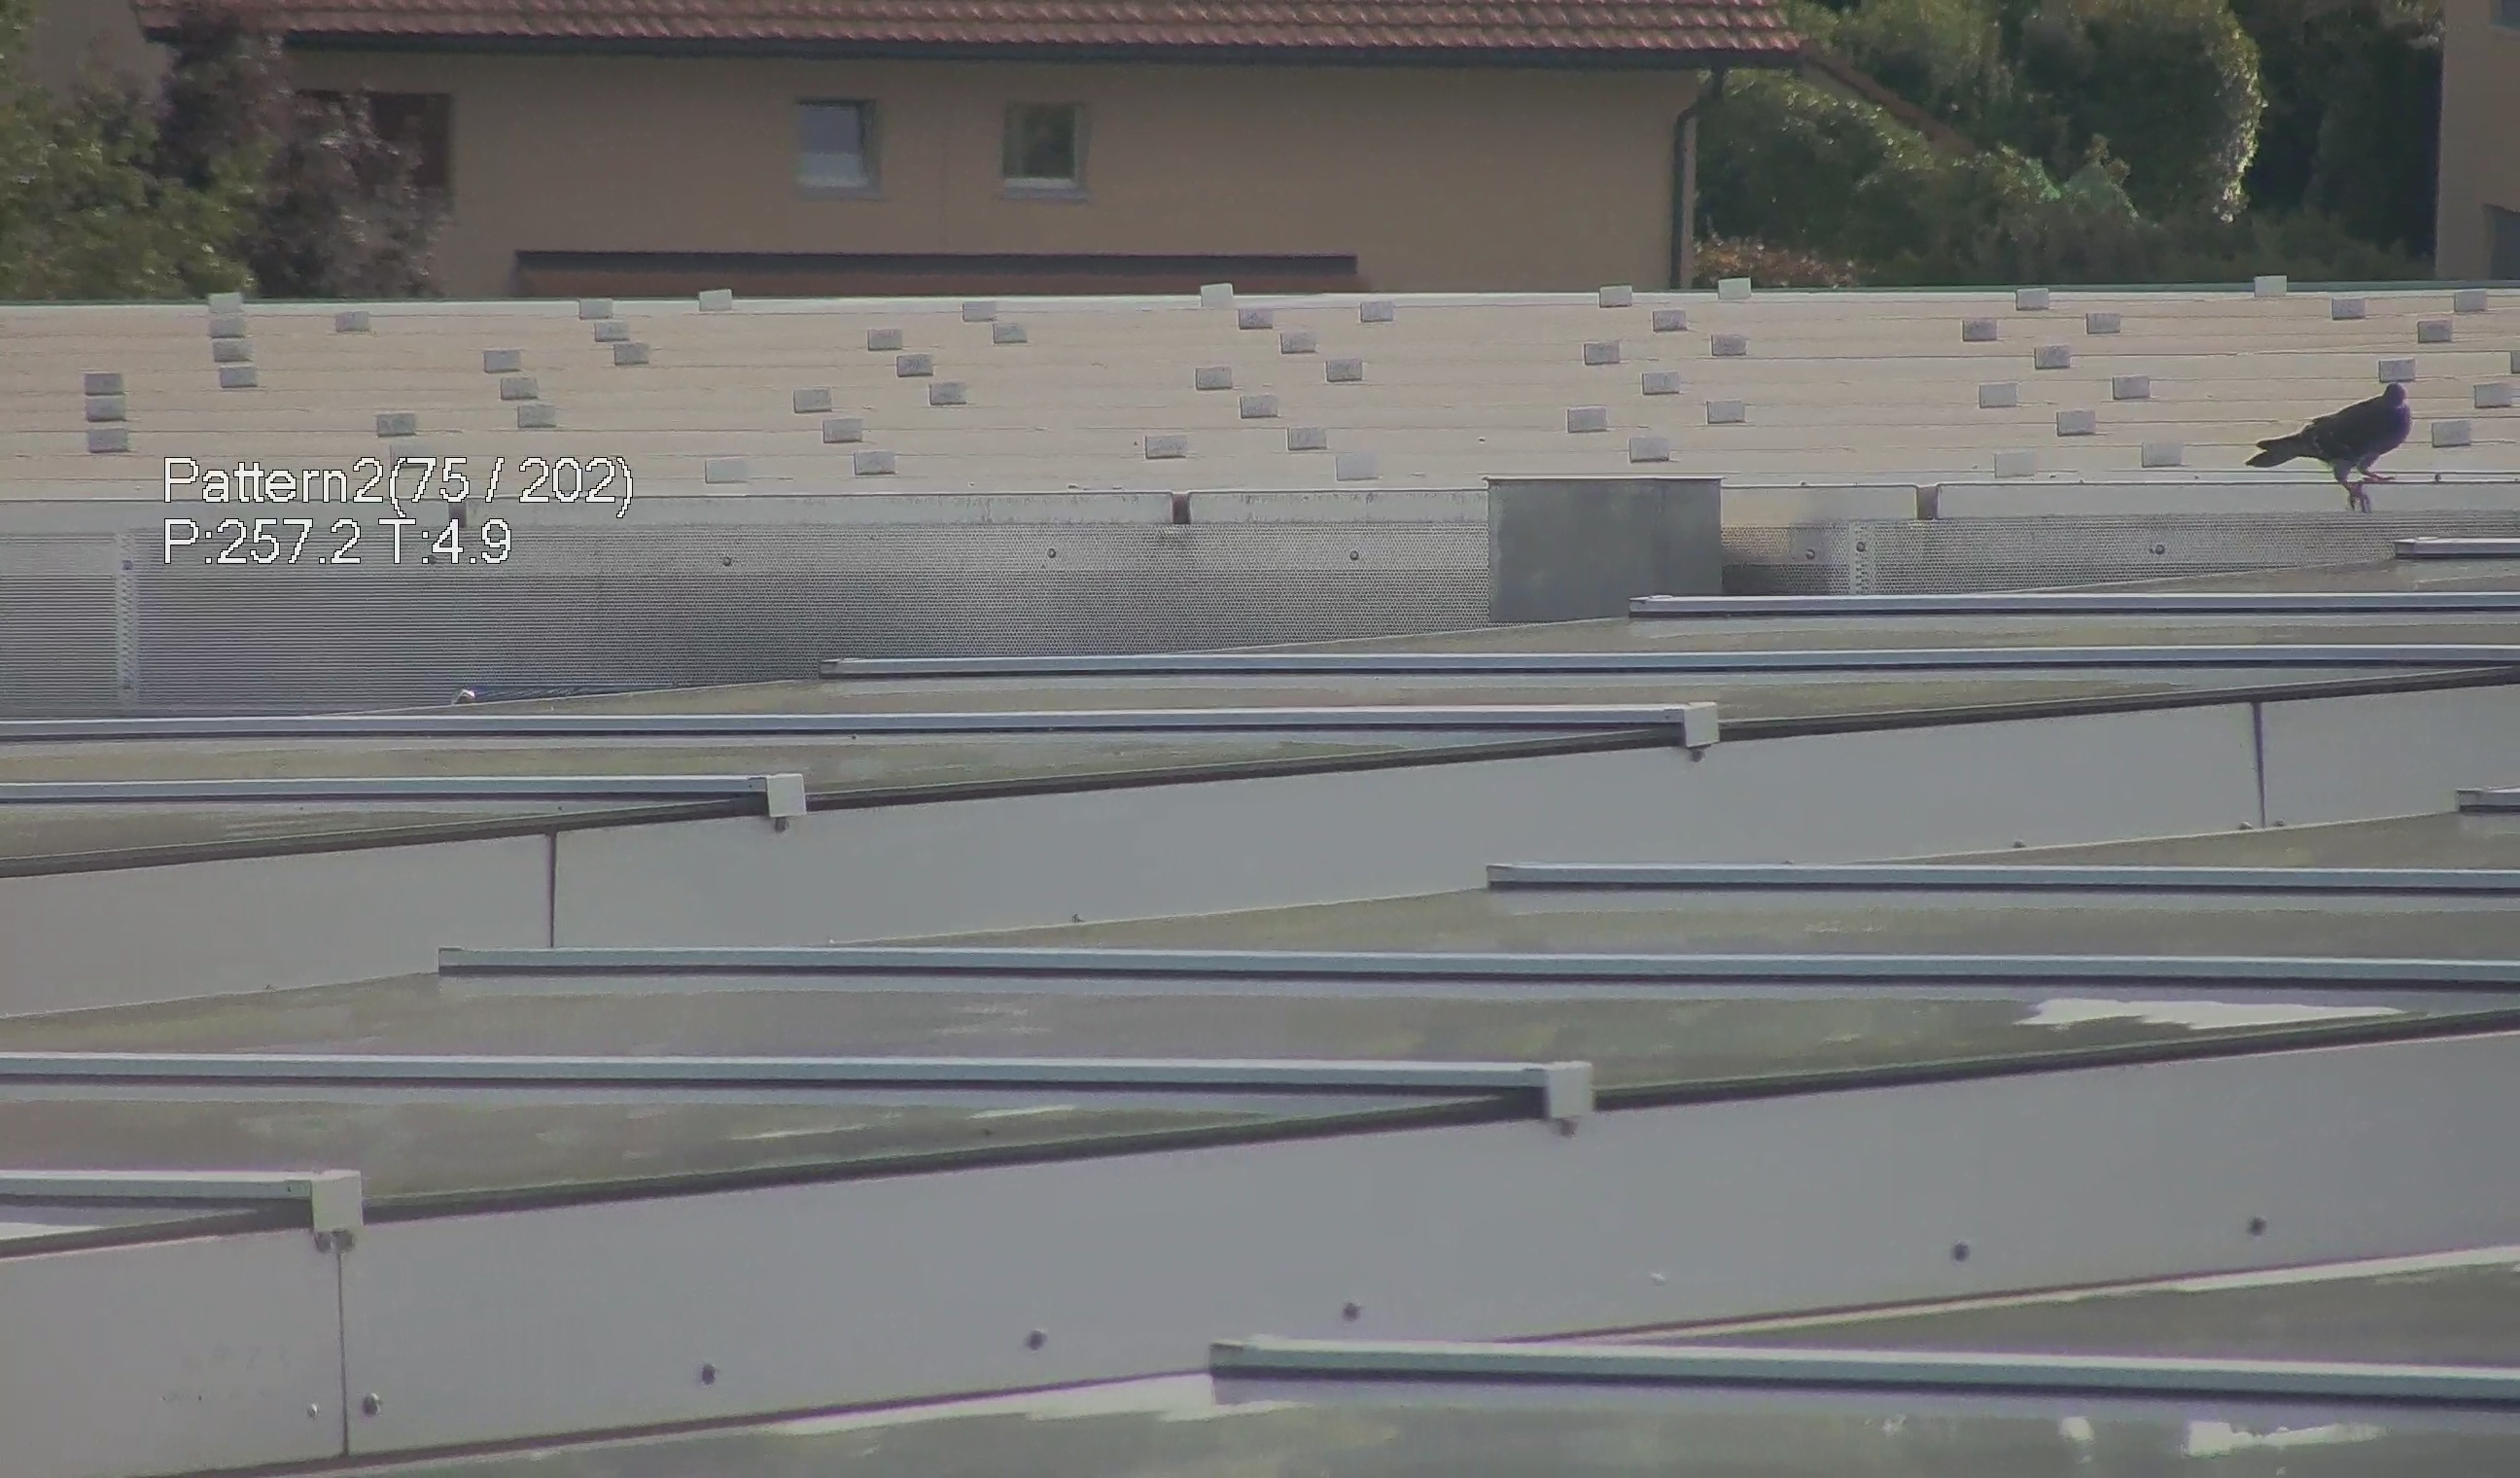Pigeon: (2265, 348, 2436, 500)
